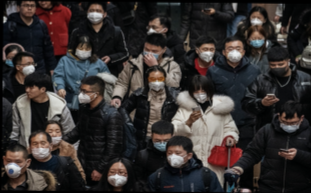mask_weared_incorrect: (45, 127, 62, 145)
with_mask: (4, 156, 25, 178), (30, 138, 51, 160), (106, 166, 128, 187), (165, 148, 188, 168), (223, 44, 242, 63), (278, 117, 301, 132), (142, 46, 162, 63), (268, 60, 288, 77), (147, 74, 165, 92), (152, 135, 172, 151), (86, 7, 104, 24), (198, 45, 215, 63), (192, 87, 208, 104), (76, 86, 91, 104), (145, 23, 164, 37), (74, 45, 92, 59), (22, 58, 35, 76), (249, 34, 264, 49), (5, 54, 17, 69), (249, 14, 263, 26)
without_mask: (20, 1, 36, 18), (25, 84, 39, 98)
